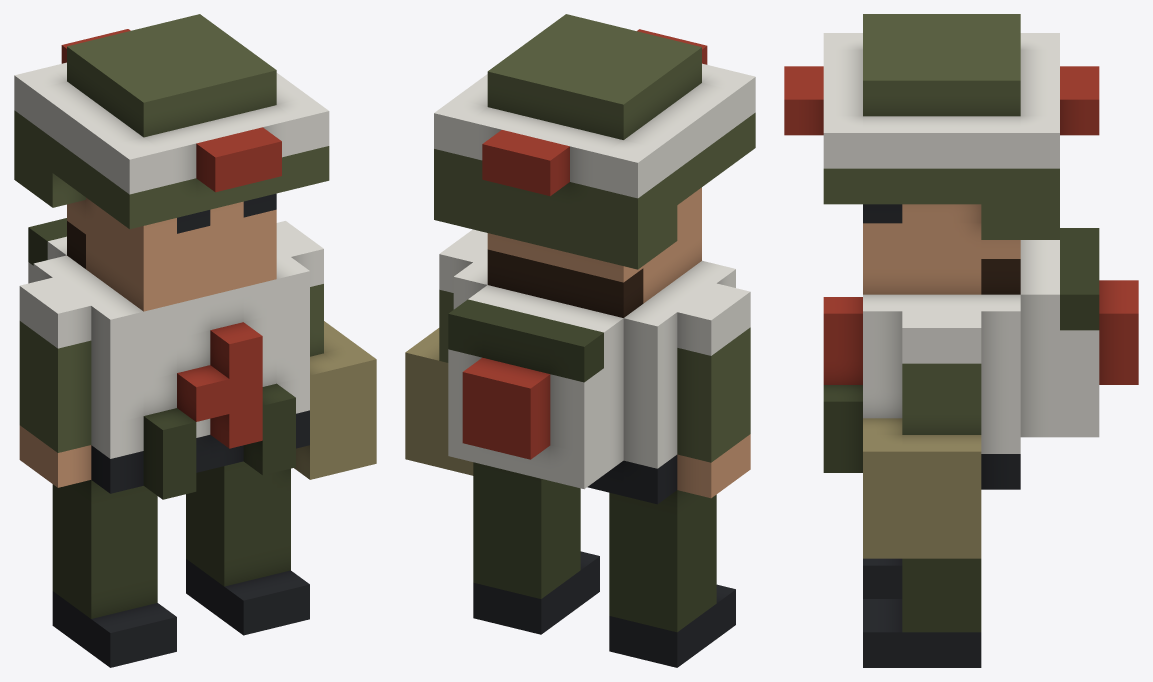
Rendered from cm_medic_5.glb.
3 renders of one model, left to right at view 1: azimuth 30°, elevation 25°; view 2: azimuth 150°, elevation 25°; view 3: azimuth 270°, elevation 25°, orthographic. The views are drawn at different scales.
Parts seen in each view (by area): view 1: cm_medic_5_body; view 2: cm_medic_5_body; view 3: cm_medic_5_body.
Boxes of the visible parts, bbox=[...] form: cm_medic_5_body: bbox=[14, 14, 376, 667]; cm_medic_5_body: bbox=[405, 14, 755, 667]; cm_medic_5_body: bbox=[784, 14, 1138, 667].
Bounding box in the file's own units: 0.5625 × 1 × 0.5625.
1 material, 1 textured.
